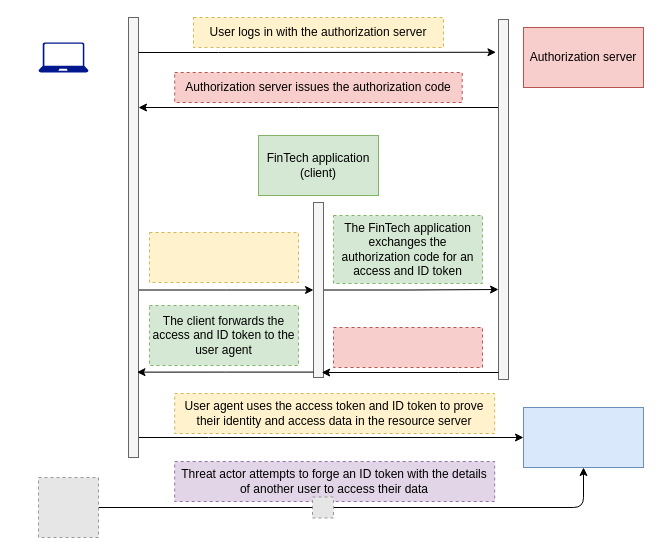
Some shapes in this 661 by 555 pixel diagram are drawn without their labels. Grey dashed boxes stand in for pictures. Each missing label, with the centre of its shape:
"Authorization server issues the access and ID token" belongs at point (407, 347).
"Resource server" belongs at point (583, 437).
"User / user agent" belongs at point (63, 57).
"User agent sends the code to the client" belongs at point (223, 257).
